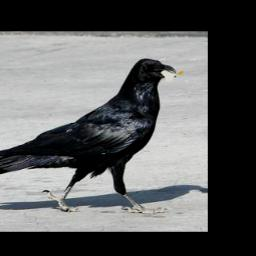Crow: (0, 58, 182, 215)
